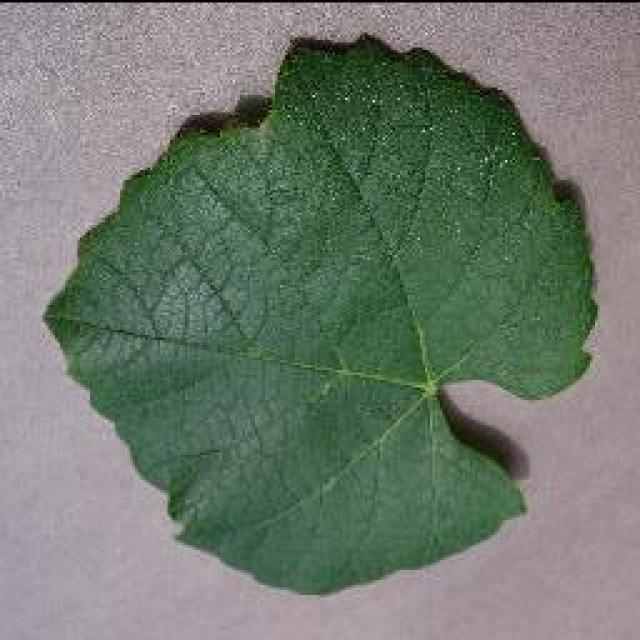Grape___healthy: (48, 42, 592, 592)
